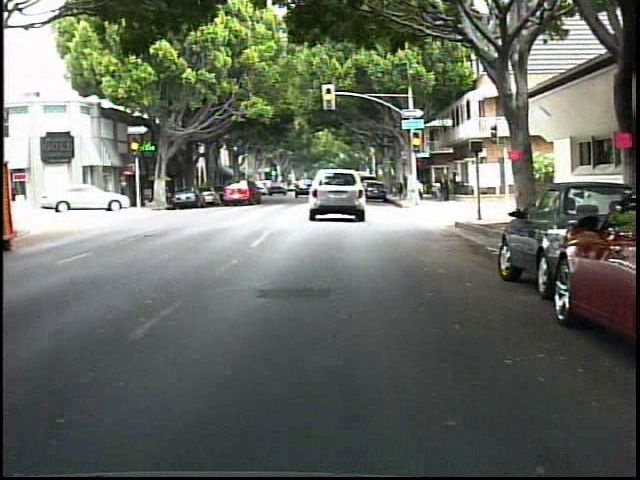person: (405, 171, 426, 210), (441, 168, 454, 204), (449, 165, 463, 196), (433, 171, 446, 202)
